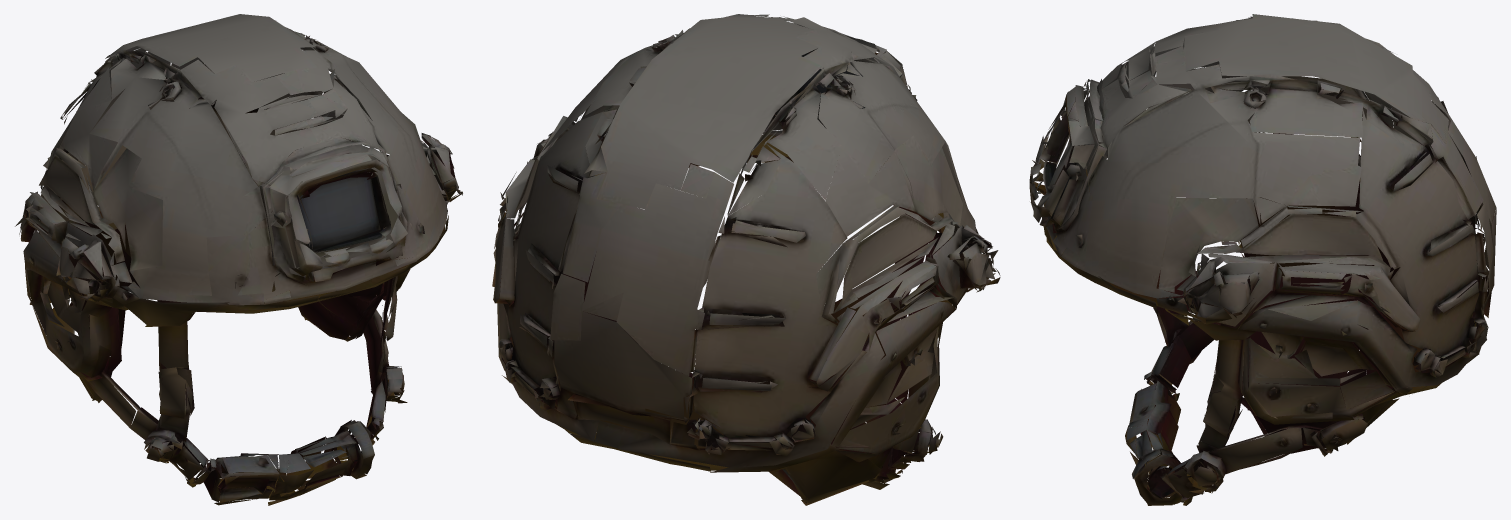
Rendered from mer_tactical_helmet_nvg_LOD2.glb.
3 views of the same model, side by side, from view 1: azimuth 30°, elevation 25°; view 2: azimuth 150°, elevation 25°; view 3: azimuth 270°, elevation 25° (orthographic). The views are drawn at different scales.
Visible parts, largest first — view 1: tripo_node_3221aee6-50b0-457b-a914-8cea8e218df3; view 2: tripo_node_3221aee6-50b0-457b-a914-8cea8e218df3; view 3: tripo_node_3221aee6-50b0-457b-a914-8cea8e218df3.
Part boxes in pixels (bbox=[...]): tripo_node_3221aee6-50b0-457b-a914-8cea8e218df3: bbox=[15, 14, 462, 505]; tripo_node_3221aee6-50b0-457b-a914-8cea8e218df3: bbox=[492, 14, 1000, 505]; tripo_node_3221aee6-50b0-457b-a914-8cea8e218df3: bbox=[1029, 14, 1496, 505].
Bounding box in the file's own units: 0.9857 × 0.9976 × 0.9755.
Materials: 1 (1 with a texture image).
